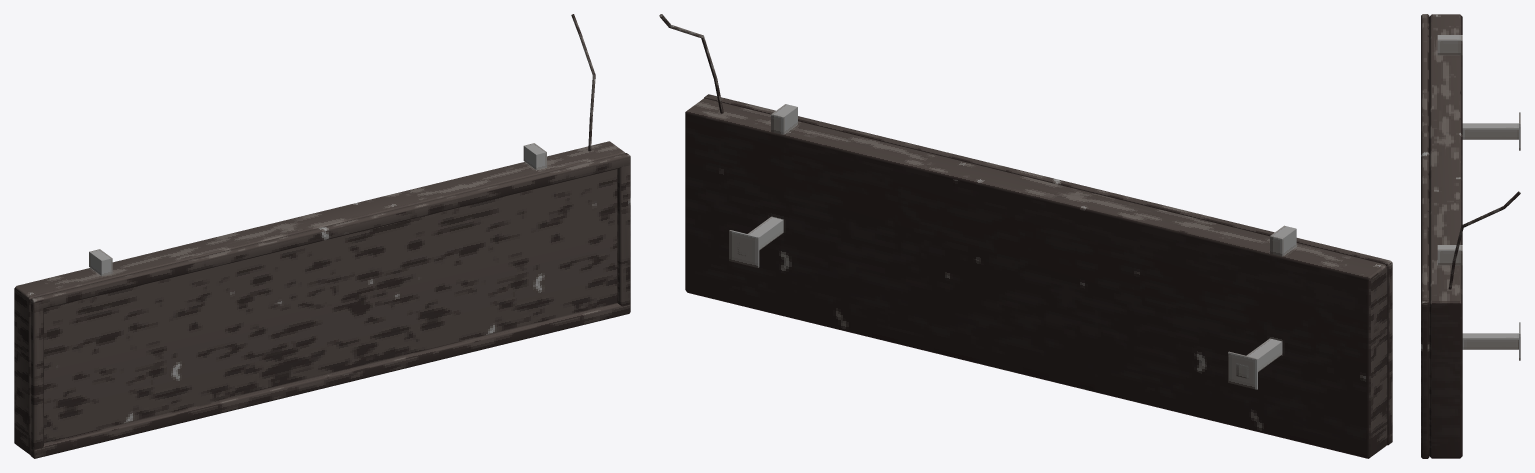
Rendered from gk_lightbox.glb.
The picture shows the model from 3 angles, left to right: view 1: azimuth 30°, elevation 25°; view 2: azimuth 150°, elevation 25°; view 3: azimuth 270°, elevation 25°; orthographic projection. The views are drawn at different scales.
Visible parts, largest first — view 1: mesh; view 2: mesh; view 3: mesh.
Part boxes in pixels (left/top/right/bottom): mesh: left=14, top=14, right=630, bottom=458; mesh: left=659, top=14, right=1392, bottom=458; mesh: left=1421, top=14, right=1520, bottom=458.
Size of the model in its own units: 1.65 by 0.7026 by 0.2407.
1 material, 1 textured.
